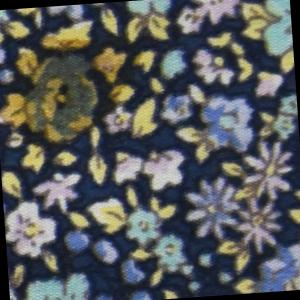Oil Stain: (1, 29, 146, 152)
